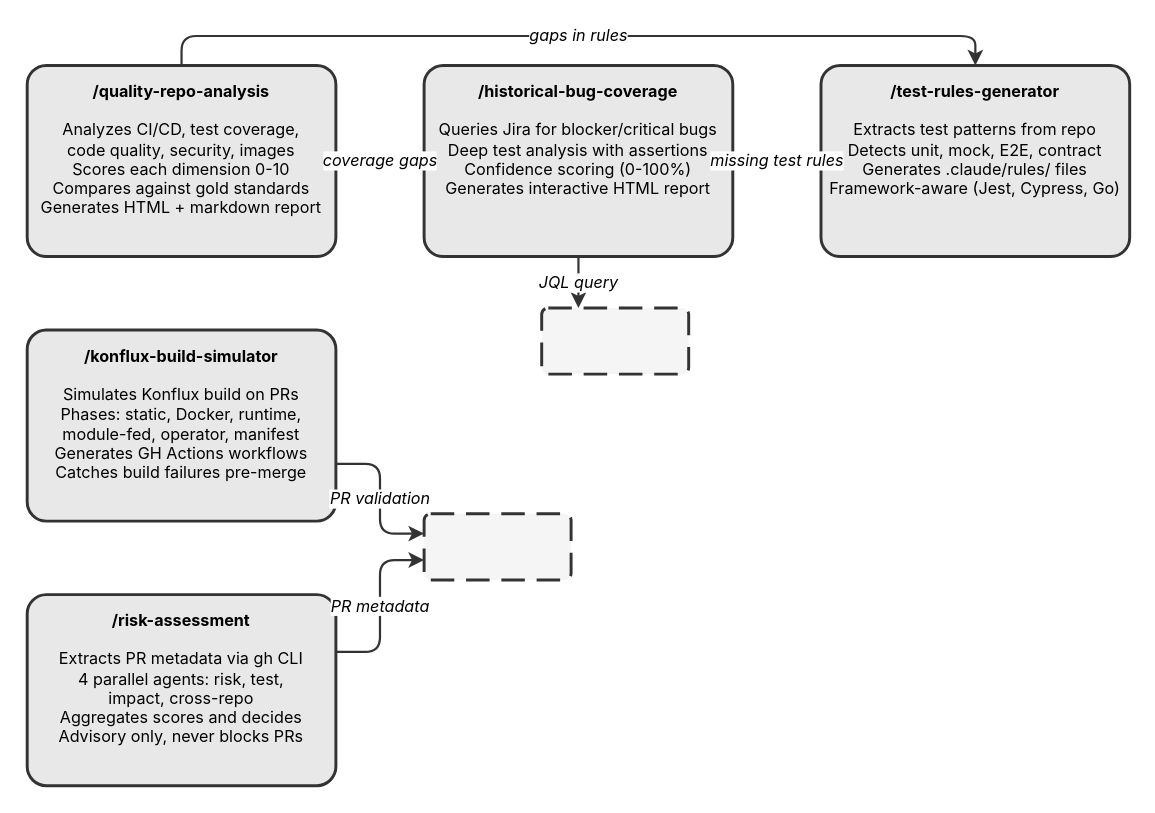
Some shapes in this 1155 by 813 pixel diagram are drawn without their labels. The centre of each missing label's shape, as x and y in pixels:
GitHub: pixel 497 546
Jira: pixel 614 340
